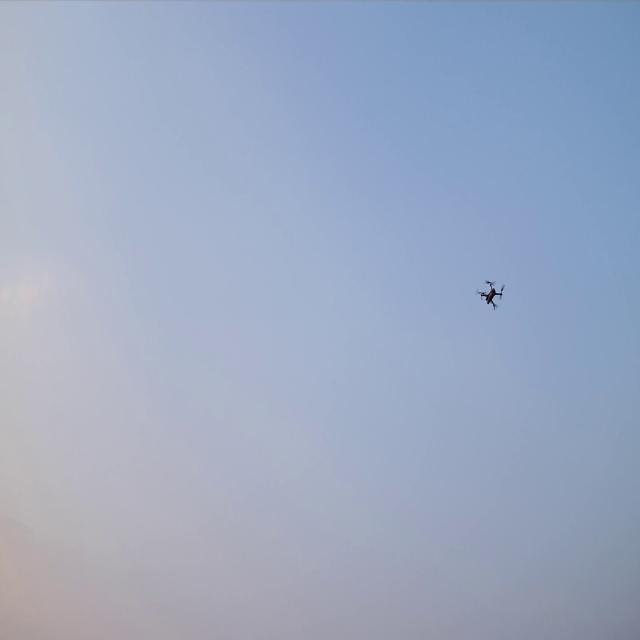UAV: (474, 277, 506, 311)
